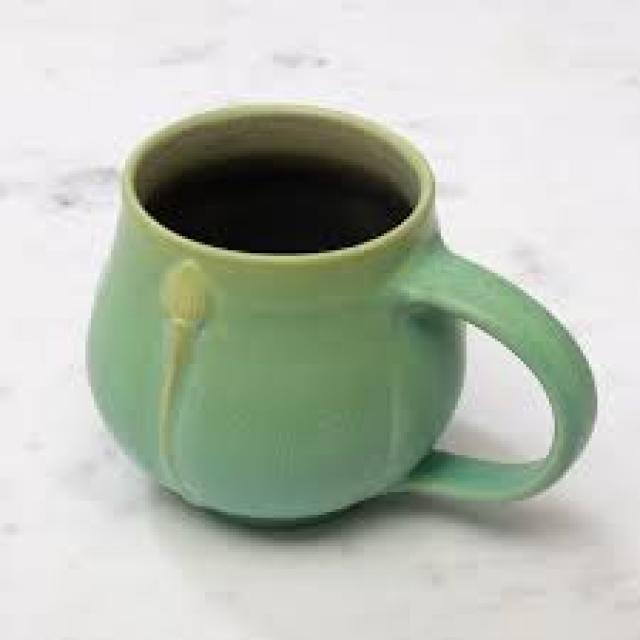taza: (85, 101, 598, 521)
